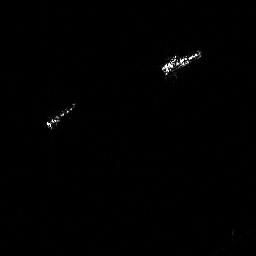ship: (161, 51, 202, 75), (46, 103, 74, 127)
